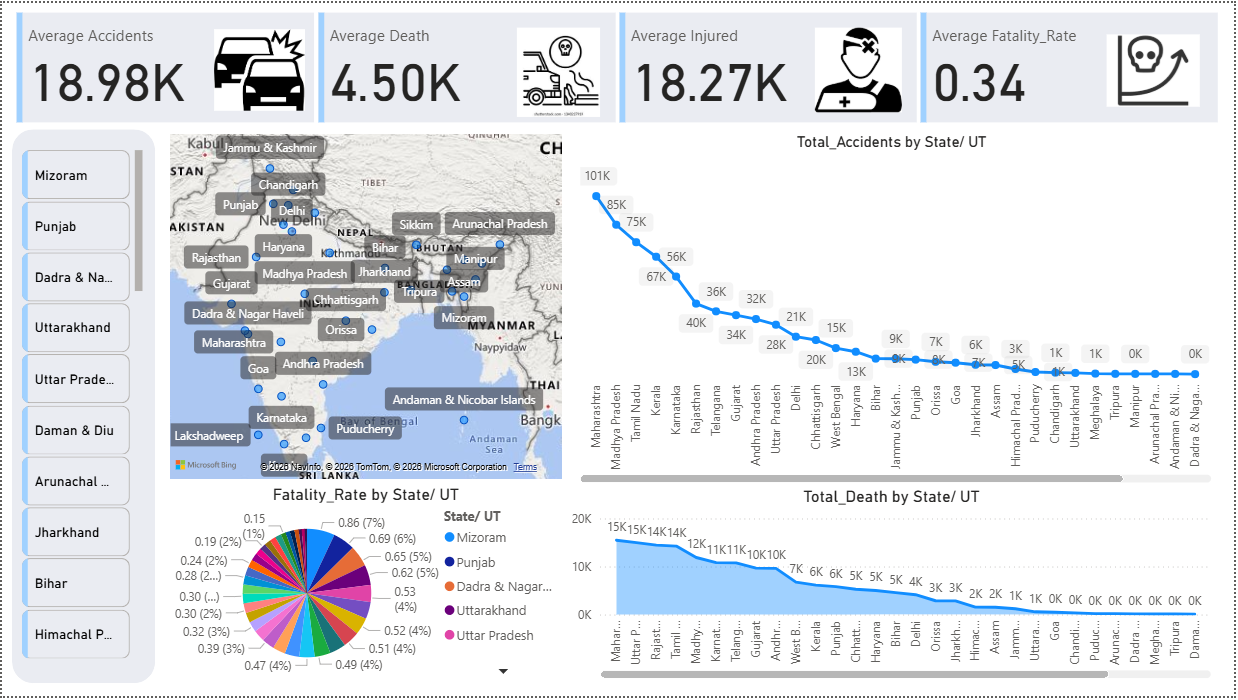

The page's visual inventory and layout, read from the dashboard file:
{"tool":"powerbi","page":{"name":"Page 1","canvas":[1280,720],"ordinal":0},"visuals":[{"type":"cardVisual","fields":{"Data":["Avg(Worksheet.Total_Accidents)","Avg(Worksheet.Total_Death)","Avg(Worksheet.Total_Injured)","Avg(Worksheet.Fatality_Rate)"]},"box":[9.8,4.9,1259.8,124.4],"z":0},{"type":"image","box":[215.2,20.8,103.9,97.8],"z":1000},{"type":"image","box":[528.3,20.8,99,102.7],"z":2000},{"type":"image","box":[838.9,20.8,101.5,97.8],"z":3000},{"type":"image","box":[1143.3,7.3,106.4,124.7],"z":4000},{"type":"map","fields":{"Category":["Worksheet.State/ UT"]},"box":[170.7,131.7,415.9,368.3],"z":5000},{"type":"shape","box":[9.8,131.7,148.8,575.6],"z":6000},{"type":"advancedSlicerVisual","fields":{"Values":["Worksheet.State/ UT"]},"box":[15.9,147.6,135.4,542.7],"z":7000},{"type":"lineChart","fields":{"Category":["Worksheet.State/ UT"],"Y":["Sum(Worksheet.Total_Accidents)"]},"box":[586.6,135.4,674.4,368.3],"z":8000},{"type":"pieChart","fields":{"Category":["Worksheet.State/ UT"],"Y":["Avg(Worksheet.Fatality_Rate)"]},"box":[170.7,500,415.9,207.3],"z":9000},{"type":"areaChart","fields":{"Category":["Worksheet.State/ UT"],"Y":["Sum(Worksheet.Total_Death)"]},"box":[587,503,674,204],"z":10000}]}

Visuals, with their boxes in screenshot pixels (x1, y1, x2, y2), scaled from the page's 1280x720 canvas onto the 1238x700 screenshot:
cardVisual - Avg(Worksheet.Total_Accidents) x Avg(Worksheet.Total_Death): 9/5/1228/126
image: 208/20/309/115
image: 511/20/607/120
image: 811/20/910/115
image: 1106/7/1209/128
map - Worksheet.State/ UT: 165/128/567/486
shape: 9/128/153/688
advancedSlicerVisual - Worksheet.State/ UT: 15/144/146/671
lineChart - Worksheet.State/ UT x Sum(Worksheet.Total_Accidents): 567/132/1220/490
pieChart - Worksheet.State/ UT x Avg(Worksheet.Fatality_Rate): 165/486/567/688
areaChart - Worksheet.State/ UT x Sum(Worksheet.Total_Death): 568/489/1220/687
